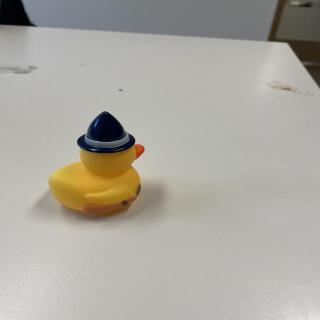duck_specialty: (48, 111, 148, 217)
